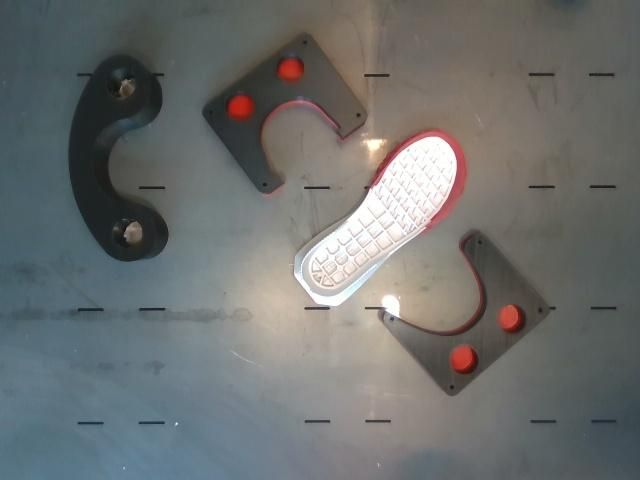shoes: (301, 132, 465, 297)
